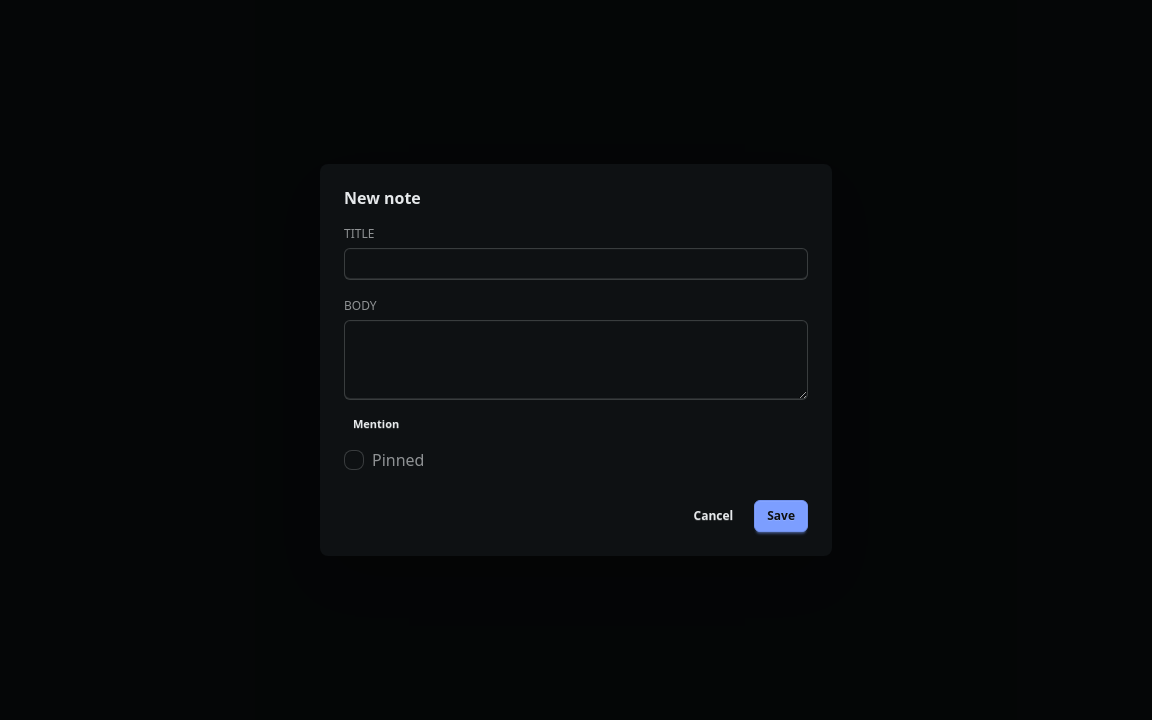
NoteForm › shows server validation fields after a failed save
The image size is (1152, 720).
Type "x" into the field labelled "Title" at coordinates (576, 264), box [344, 248, 808, 280]
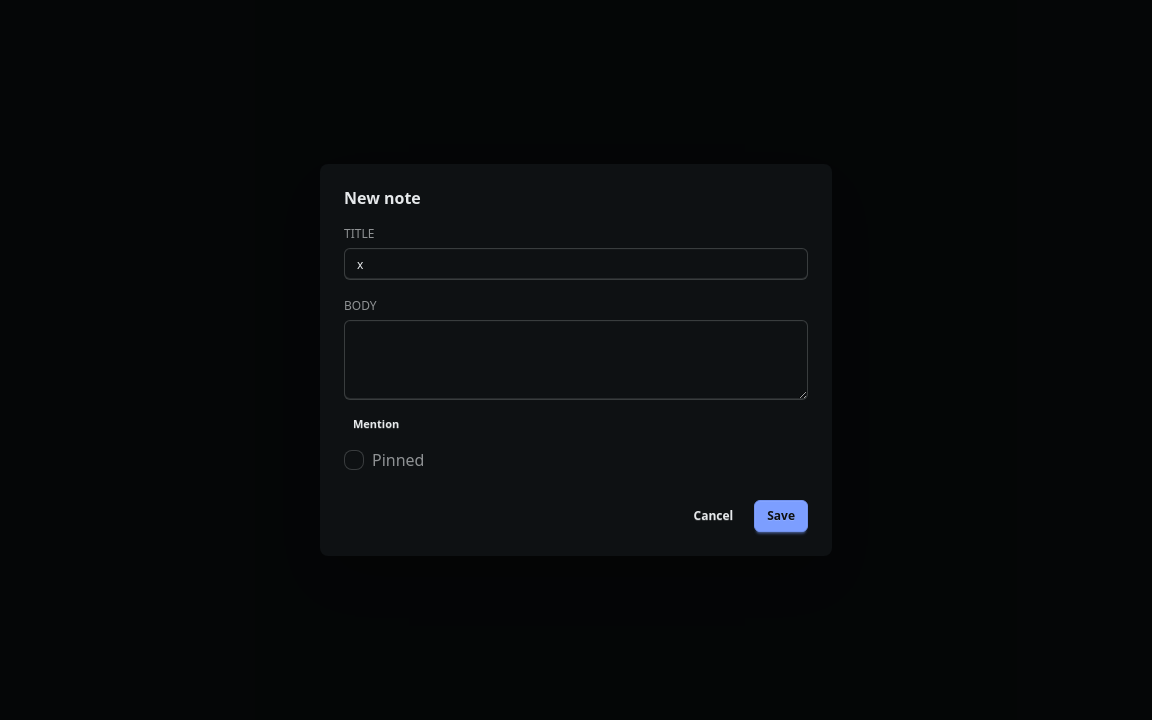
Click the button "Save" at coordinates (781, 516), box [754, 500, 808, 532]
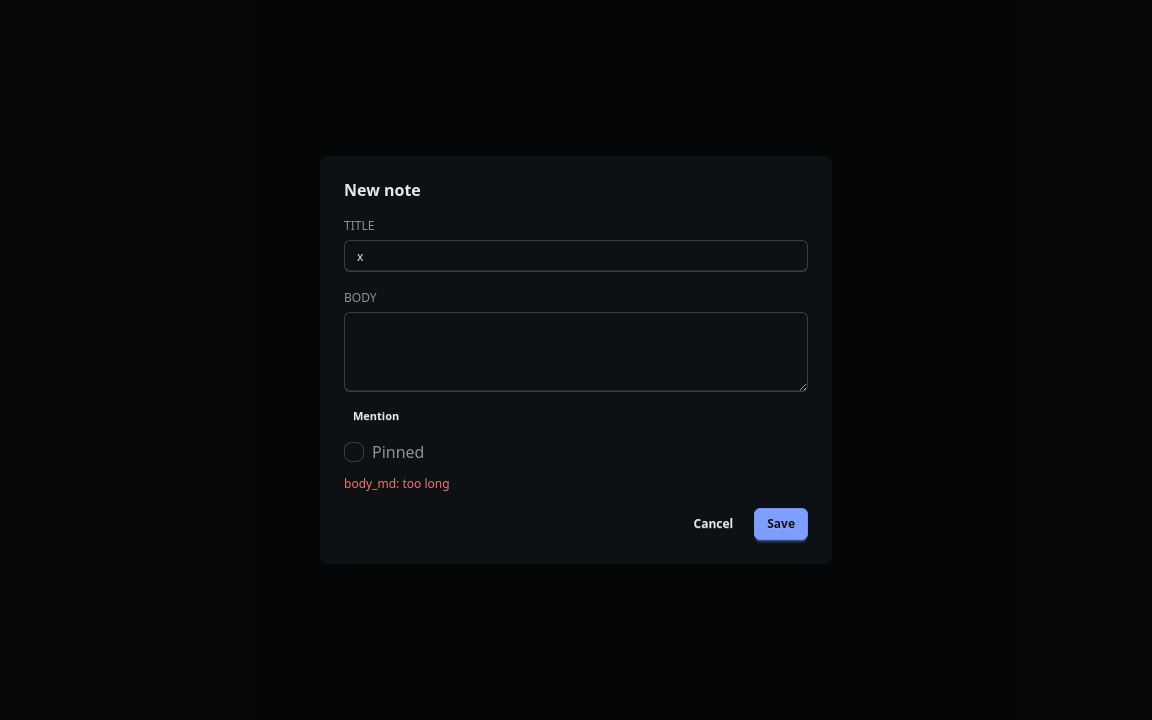
Check: the list item "body_md: too long" is shown, box [344, 475, 450, 492]
